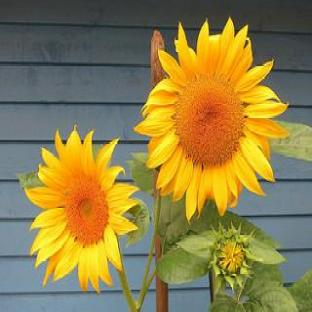sunflower: (134, 20, 291, 224), (16, 125, 142, 312)
